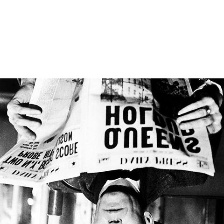news_paper: (0, 76, 216, 189)
